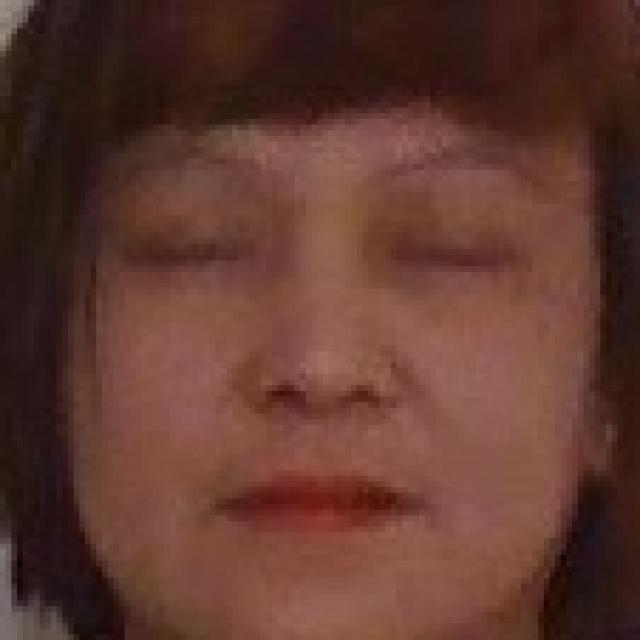Eyeclosed: (397, 222, 517, 287), (124, 220, 240, 280)
